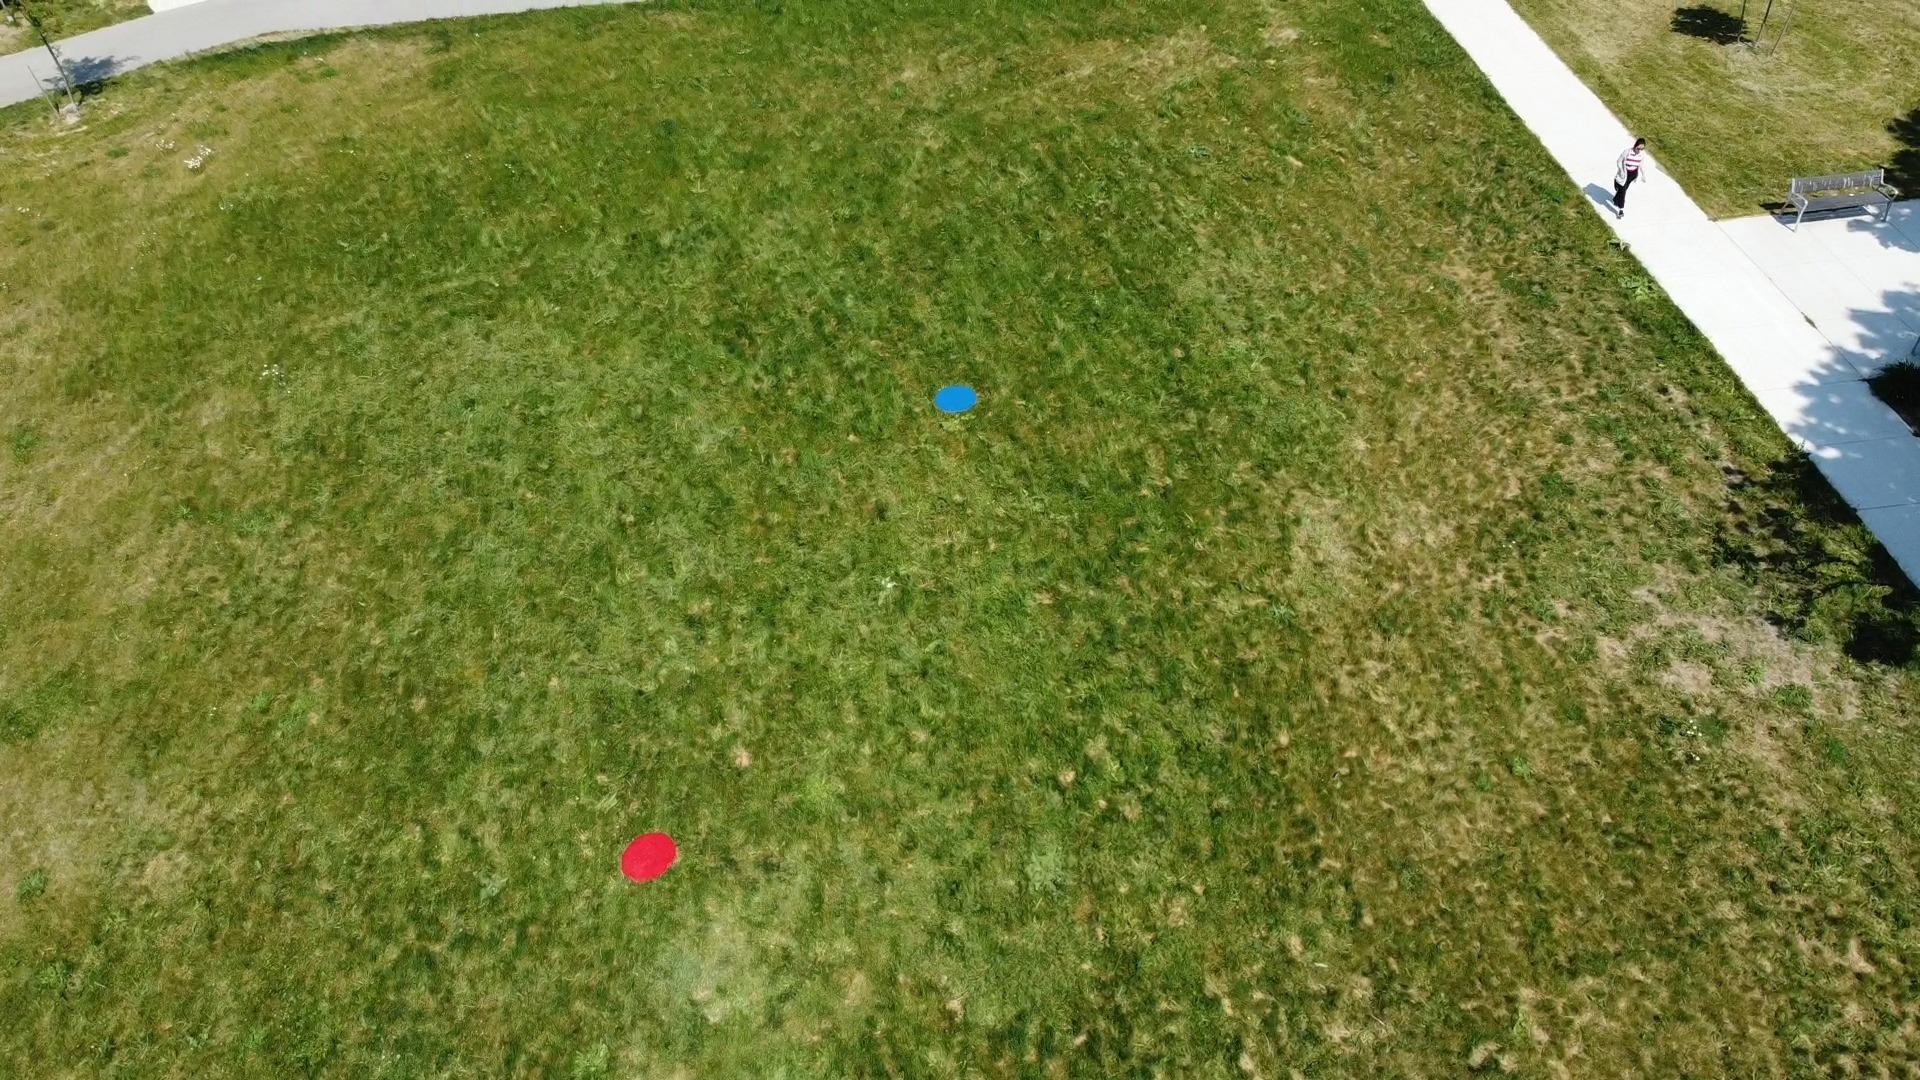Blue: (934, 384, 980, 414)
Red: (620, 831, 679, 885)
